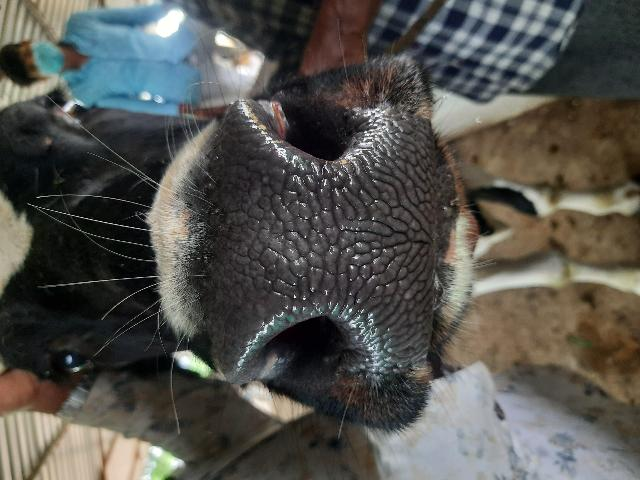Muzzle: (220, 148, 432, 330)
